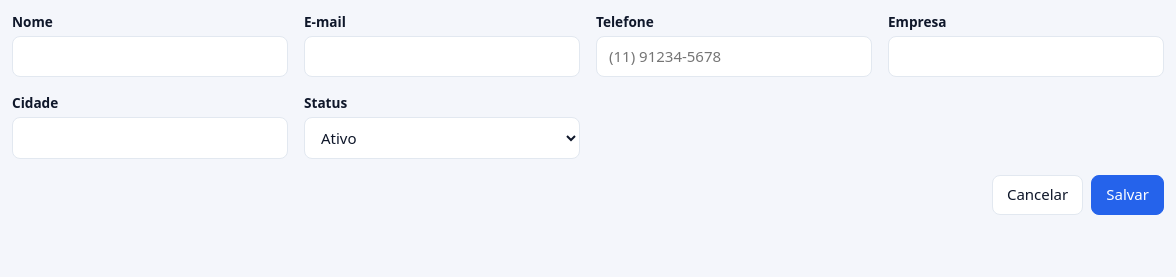
Test: ClienteForm › mostra erros e não envia quando inválido
The width and height of the screenshot is (1176, 277).
What coordinates should you click on to do the following:
click the button "Salvar"
I would click on:
 (1128, 195)
Its box is [1091, 175, 1164, 215].
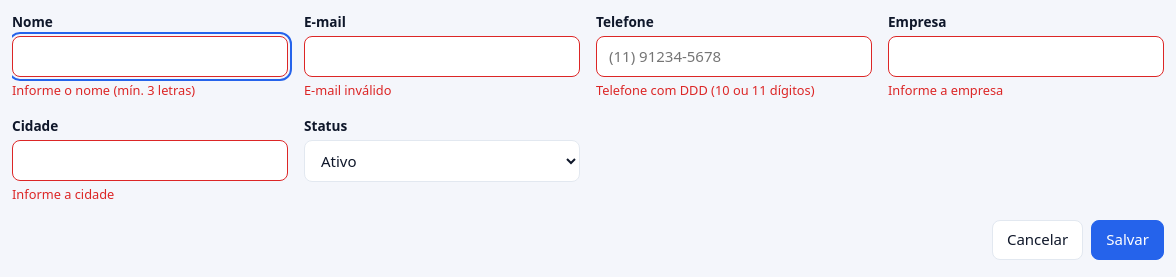
expect the text "E-mail inválido" is shown: met, box [304, 82, 391, 100]
